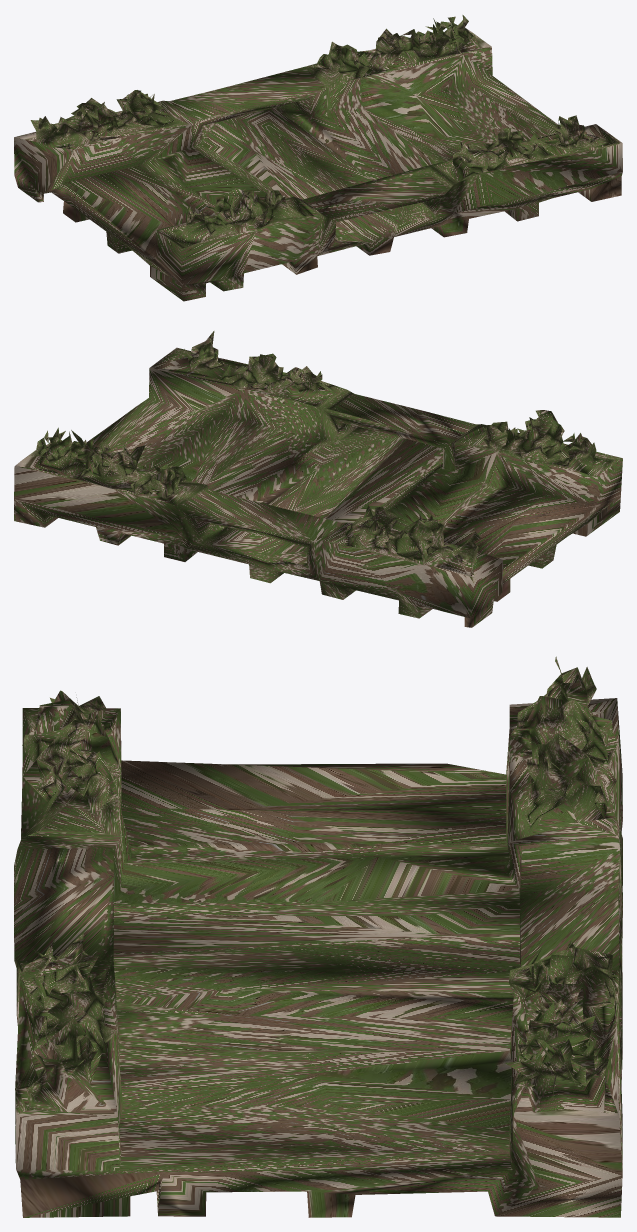
The model's file is deckbench_lod1.glb.
The picture shows the model from 3 angles, top to bottom: view 1: azimuth 30°, elevation 25°; view 2: azimuth 150°, elevation 25°; view 3: azimuth 270°, elevation 25°; orthographic projection. The views are drawn at different scales.
Size of the model in its own units: 1.89 by 0.3541 by 1.16.
Materials: 1 (1 with a texture image).
